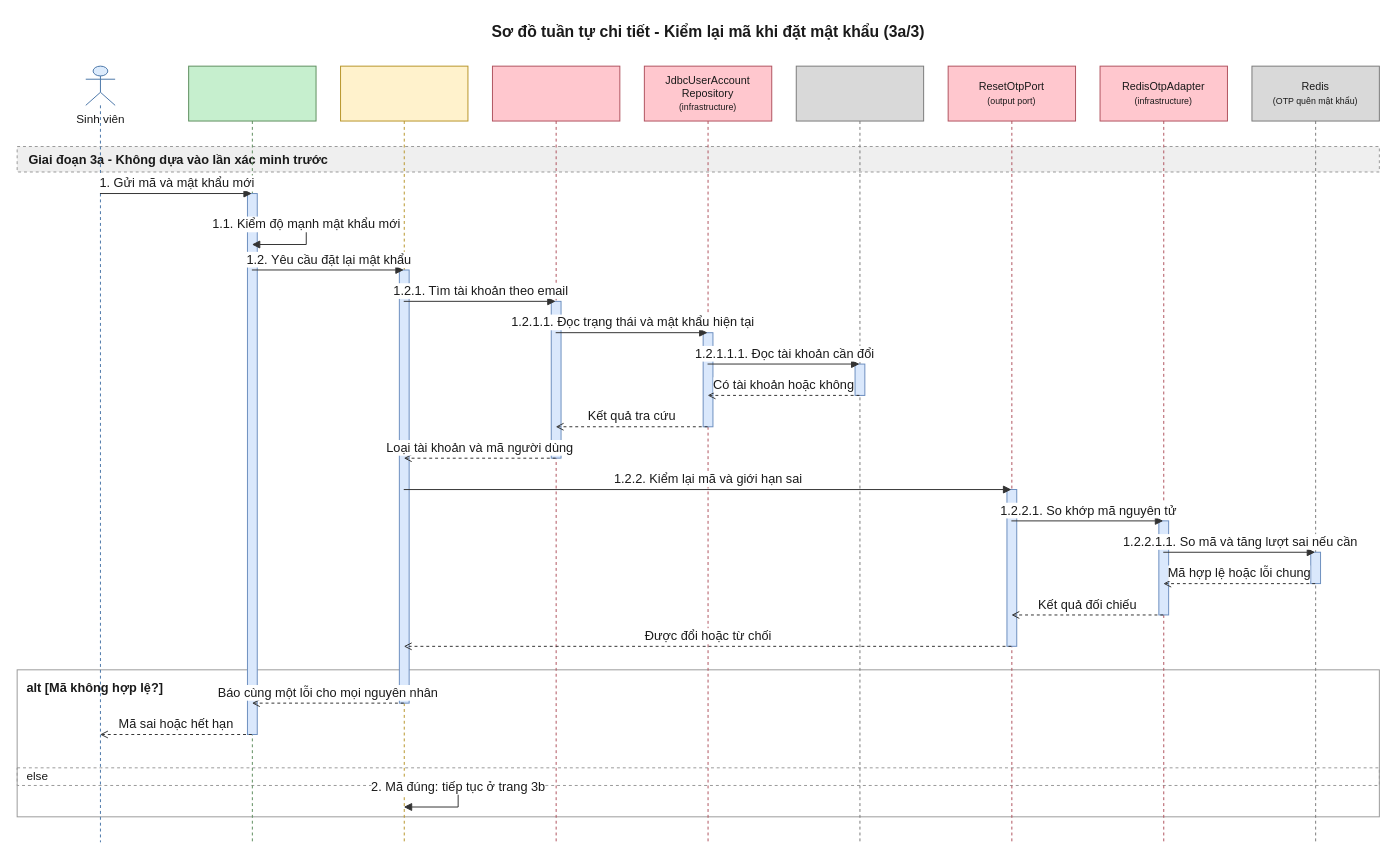
Image size: 1397x859. Some labels were removed from this diagram. The shapes that lost their labels are listed below. From the top down, each one's box as (x1, y1, x2, y2) in pixels, then its label:
(188, 65, 316, 842): PasswordReset Controller (presentation)
(340, 65, 468, 842): PasswordReset Service (application command)
(491, 65, 620, 842): UserAccount Repository (domain output port)
(795, 65, 924, 842): PostgreSQL (schema identity)
